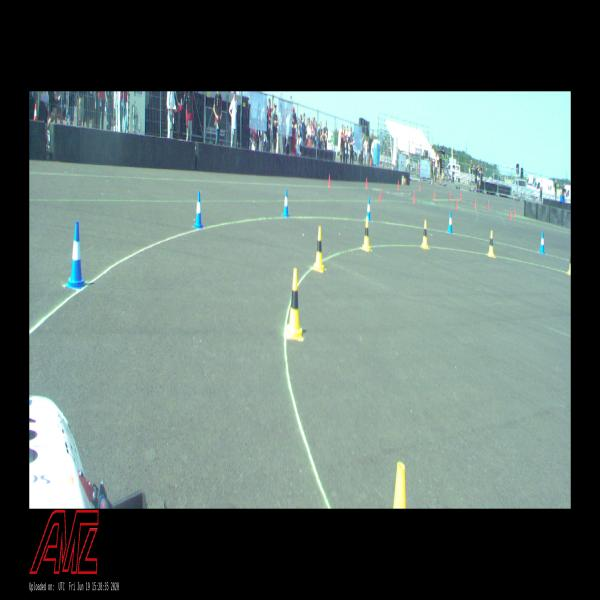blue_cone: (65, 220, 87, 289), (193, 190, 204, 228), (282, 189, 289, 217), (365, 198, 371, 221), (539, 232, 545, 254), (447, 212, 453, 233)
unknown_cone: (378, 187, 381, 202), (412, 190, 415, 203), (455, 198, 458, 210), (509, 208, 512, 220), (513, 207, 516, 218), (328, 173, 330, 187), (459, 192, 462, 201), (366, 177, 368, 188), (487, 199, 489, 210), (433, 190, 435, 201), (397, 180, 399, 190), (474, 199, 476, 209), (448, 191, 450, 201), (419, 183, 420, 191)
yellow_cone: (284, 268, 304, 341), (313, 226, 324, 272), (362, 217, 370, 252), (421, 220, 429, 248), (487, 230, 495, 257), (568, 256, 570, 276)
